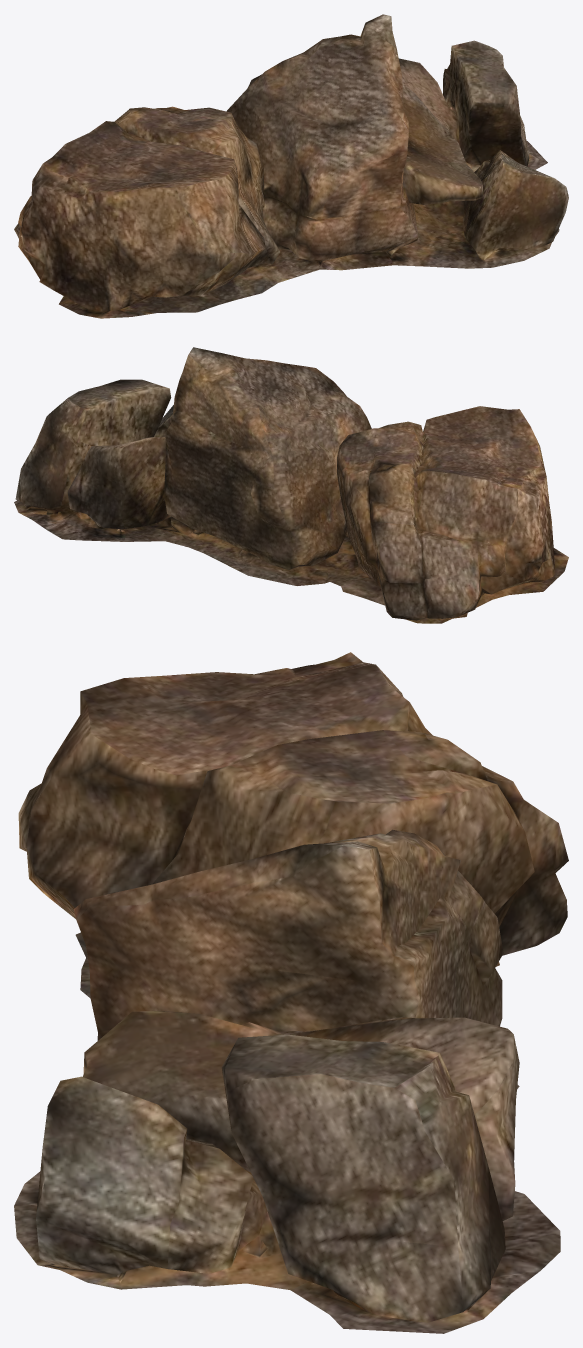
File: boulder_02.glb
3 views of the same model, one above another, from view 1: azimuth 30°, elevation 25°; view 2: azimuth 150°, elevation 25°; view 3: azimuth 270°, elevation 25° (orthographic). The views are drawn at different scales.
Visible parts, largest first — view 1: boulder_02; view 2: boulder_02; view 3: boulder_02.
Part boxes in pixels (bbox=[...]): boulder_02: bbox=[14, 14, 568, 318]; boulder_02: bbox=[14, 347, 568, 623]; boulder_02: bbox=[14, 652, 568, 1333].
Bounding box in the file's own units: 2.51 × 0.8789 × 1.23.
1 material, 1 textured.
